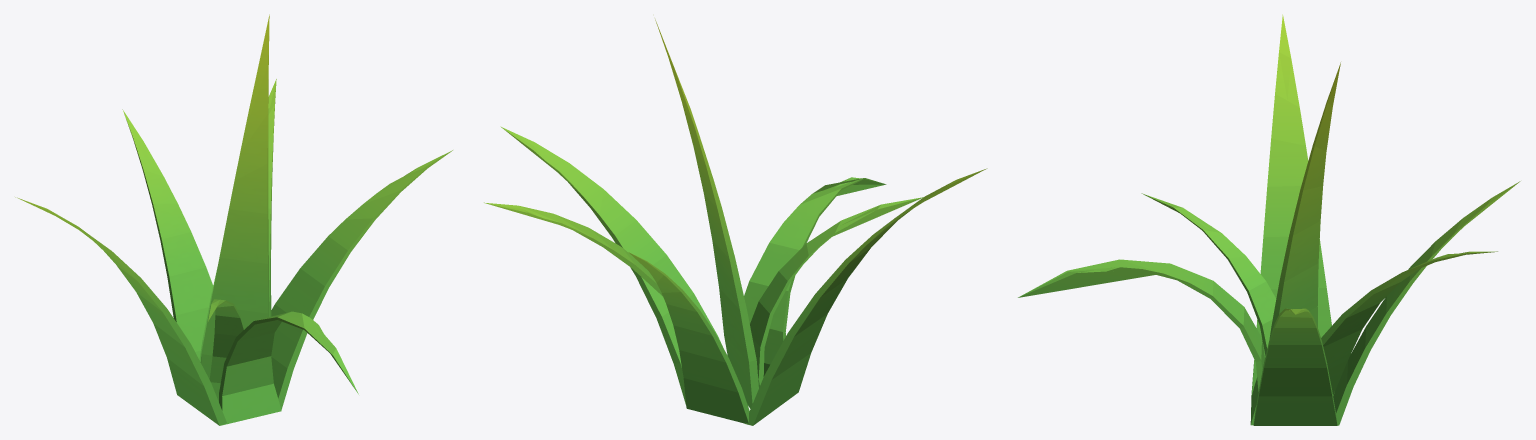
Rendered from Grass_01.fbx.
The picture shows the model from 3 angles, left to right: view 1: azimuth 30°, elevation 25°; view 2: azimuth 150°, elevation 25°; view 3: azimuth 270°, elevation 25°; orthographic projection. The views are drawn at different scales.
Parts seen in each view (by area): view 1: grass; view 2: grass; view 3: grass.
Boxes of the visible parts, x1,y1,x2,y2 form: grass: [15, 14, 452, 425]; grass: [484, 19, 987, 425]; grass: [1018, 14, 1520, 425].
Size of the model in its own units: 0.7347 by 0.5638 by 0.6791.
